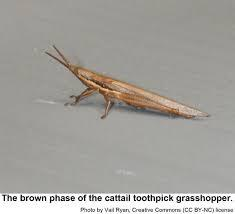Insects: (42, 41, 214, 126)
